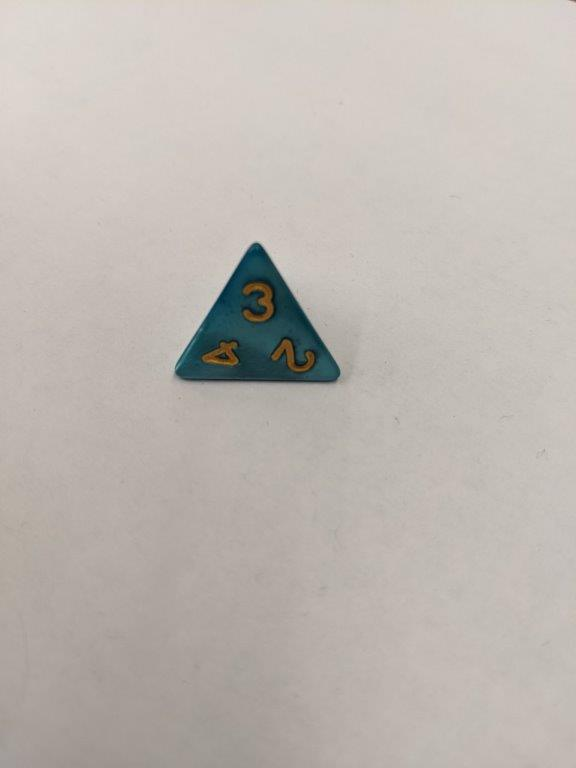d4-3: (170, 241, 348, 394)
